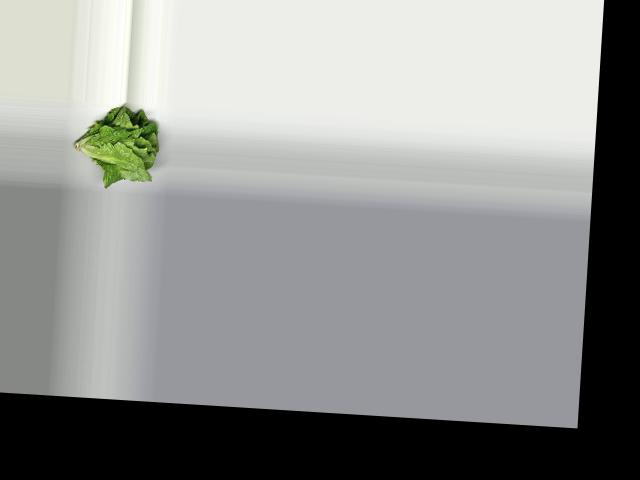lettuce: (68, 104, 166, 183)
